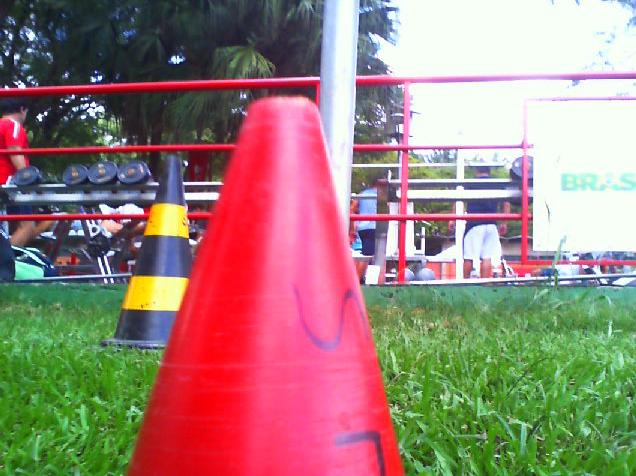0 cone: (127, 97, 407, 476), (100, 155, 191, 349)
